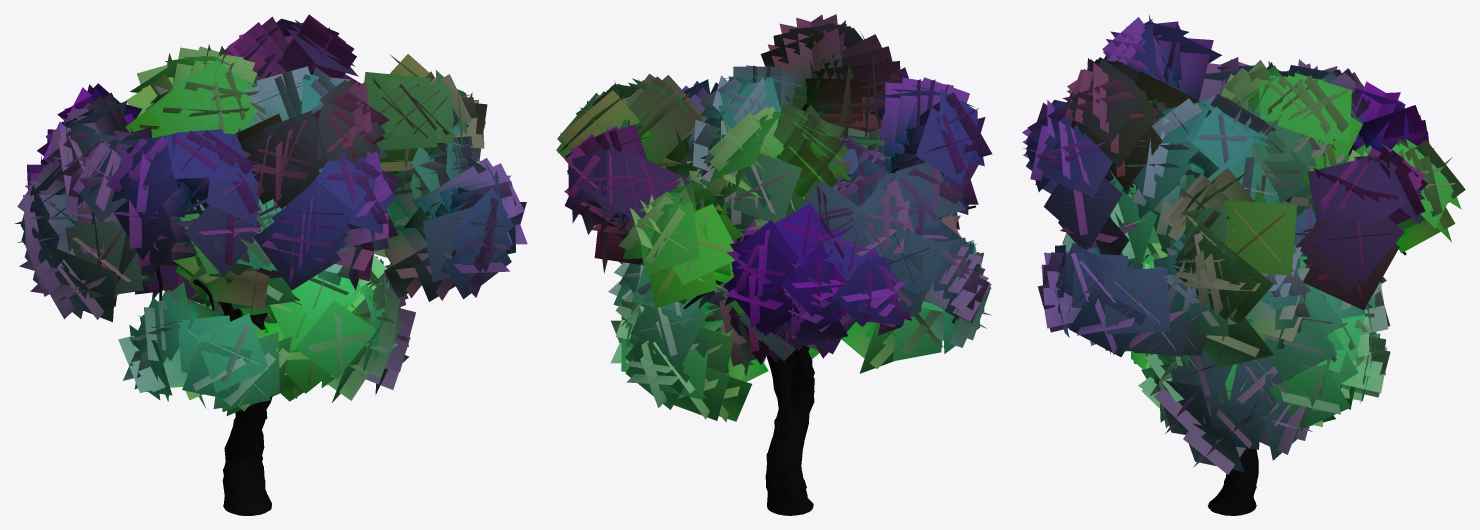
Rendered from tree 2.fbx.
3 renders of one model, left to right at view 1: azimuth 30°, elevation 25°; view 2: azimuth 150°, elevation 25°; view 3: azimuth 270°, elevation 25°, orthographic. The views are drawn at different scales.
Visible parts, largest first — view 1: Tree_1, Tree_0; view 2: Tree_1, Tree_0; view 3: Tree_1, Tree_0.
Part boxes in pixels (x1,y1,x2,y2): Tree_1: (14, 14, 527, 416); Tree_0: (156, 181, 458, 515); Tree_1: (556, 14, 992, 422); Tree_0: (683, 103, 975, 515); Tree_1: (1022, 15, 1465, 474); Tree_0: (1204, 141, 1406, 515).
Bounding box in the file's own units: 482 × 469 × 417.
